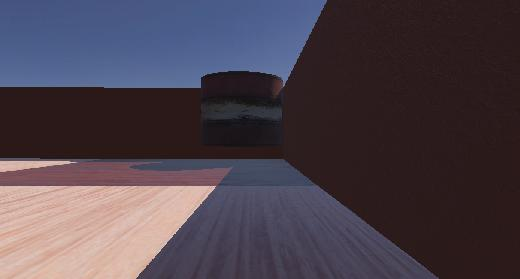OilBarrel: (193, 60, 292, 171)
